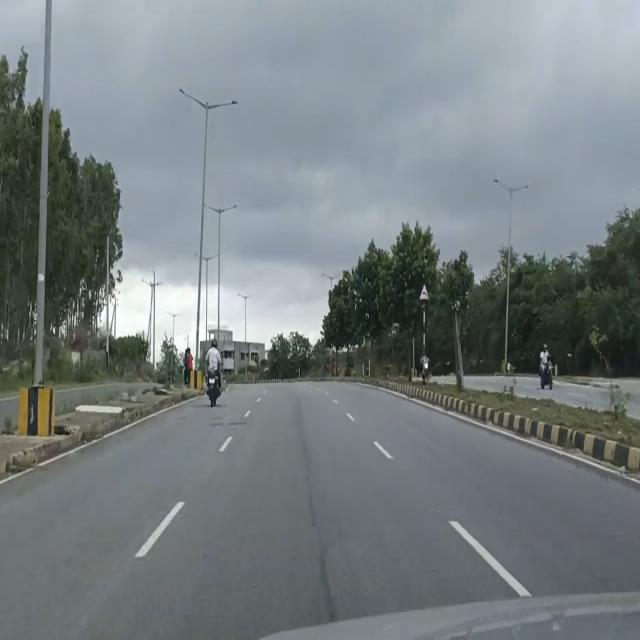bien_cam: (418, 281, 429, 302)
